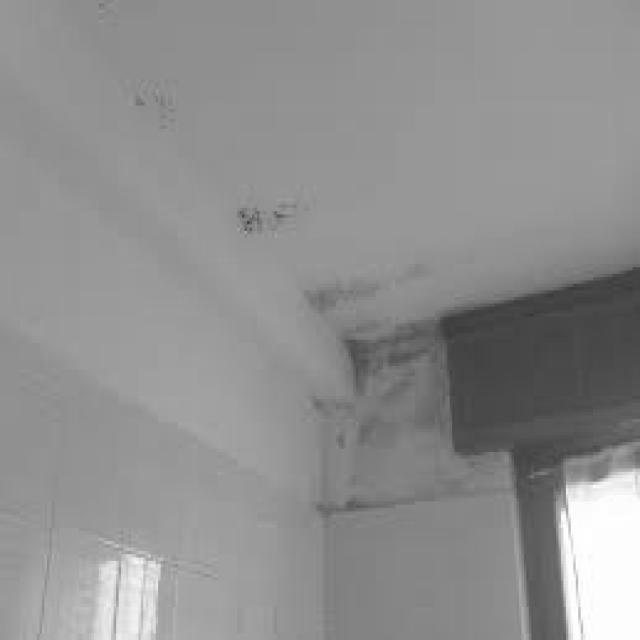stain marks: (306, 323, 512, 512), (296, 236, 482, 323), (227, 179, 319, 241), (123, 56, 183, 135), (85, 0, 130, 28)
